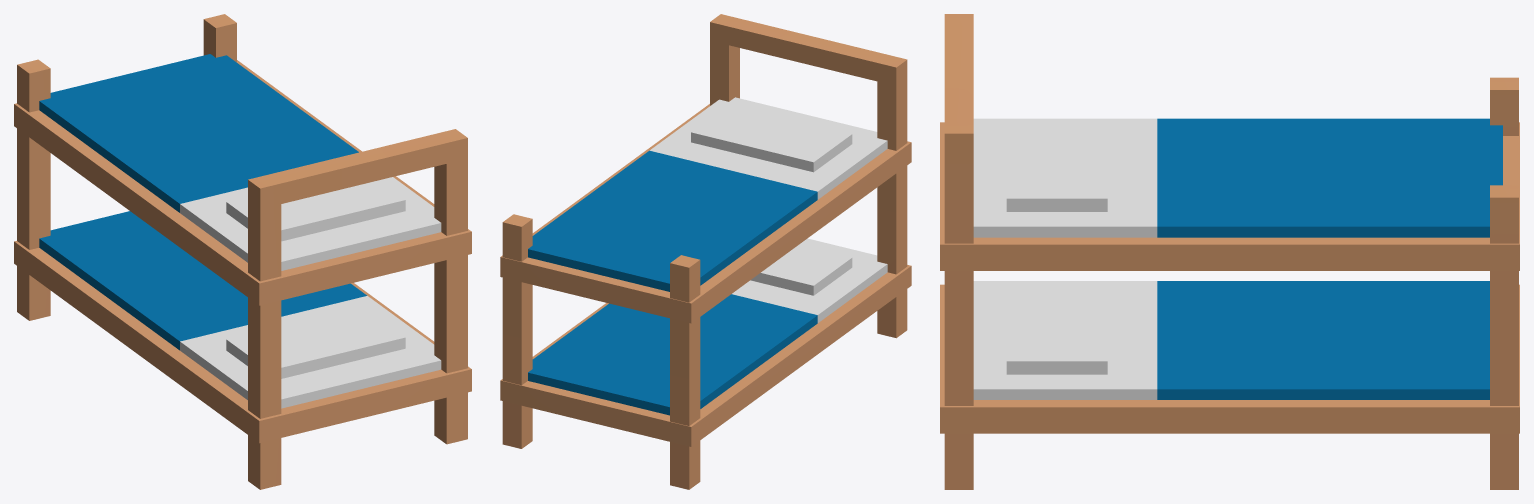
File: giuongtang.fbx
3 views of the same model, side by side, from view 1: azimuth 30°, elevation 25°; view 2: azimuth 150°, elevation 25°; view 3: azimuth 270°, elevation 25° (orthographic). The views are drawn at different scales.
Visible parts, largest first — view 1: giuongtang; view 2: giuongtang; view 3: giuongtang.
Boxes of the visible parts, x1=… form: giuongtang: x1=14, y1=14, x2=471, y2=489; giuongtang: x1=500, y1=14, x2=911, y2=489; giuongtang: x1=940, y1=14, x2=1519, y2=489.
Size of the model in its own units: 192 by 261 by 384.
Materials: 1 (1 with a texture image).
